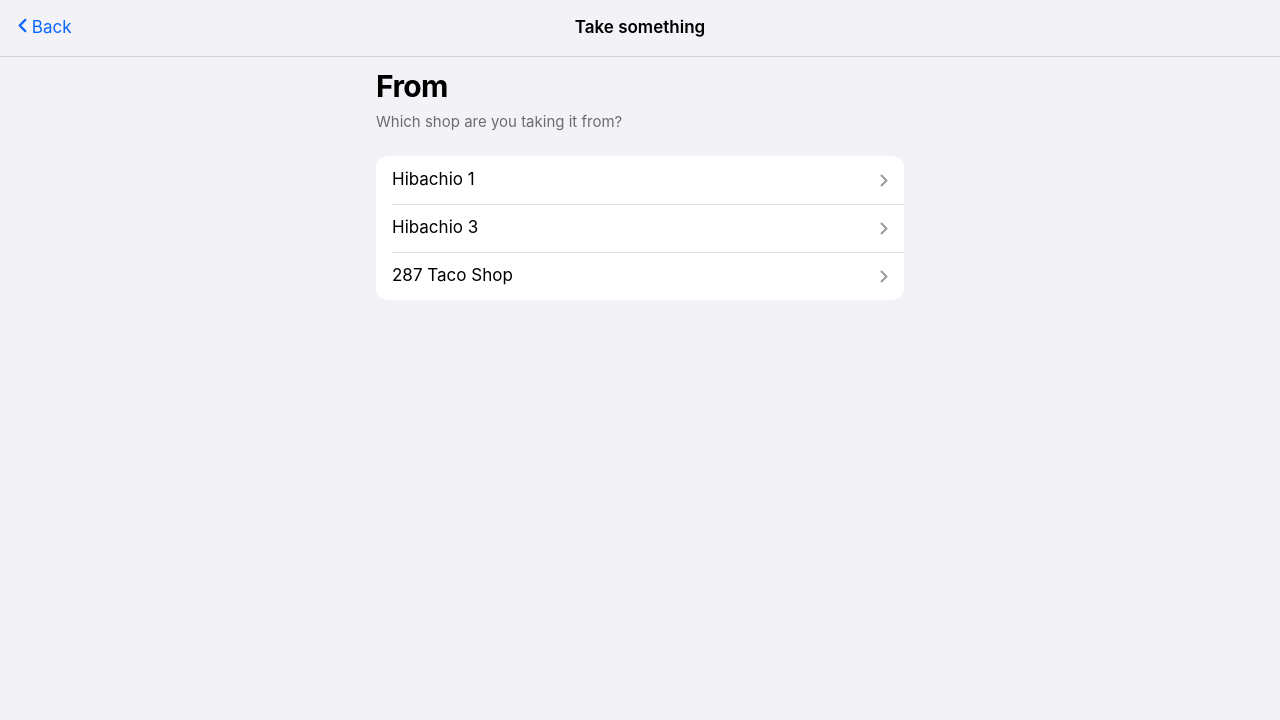
the take flow, end to end › will not go below one
Click the button "287 Taco Shop": [452, 275] box [376,252,904,300]
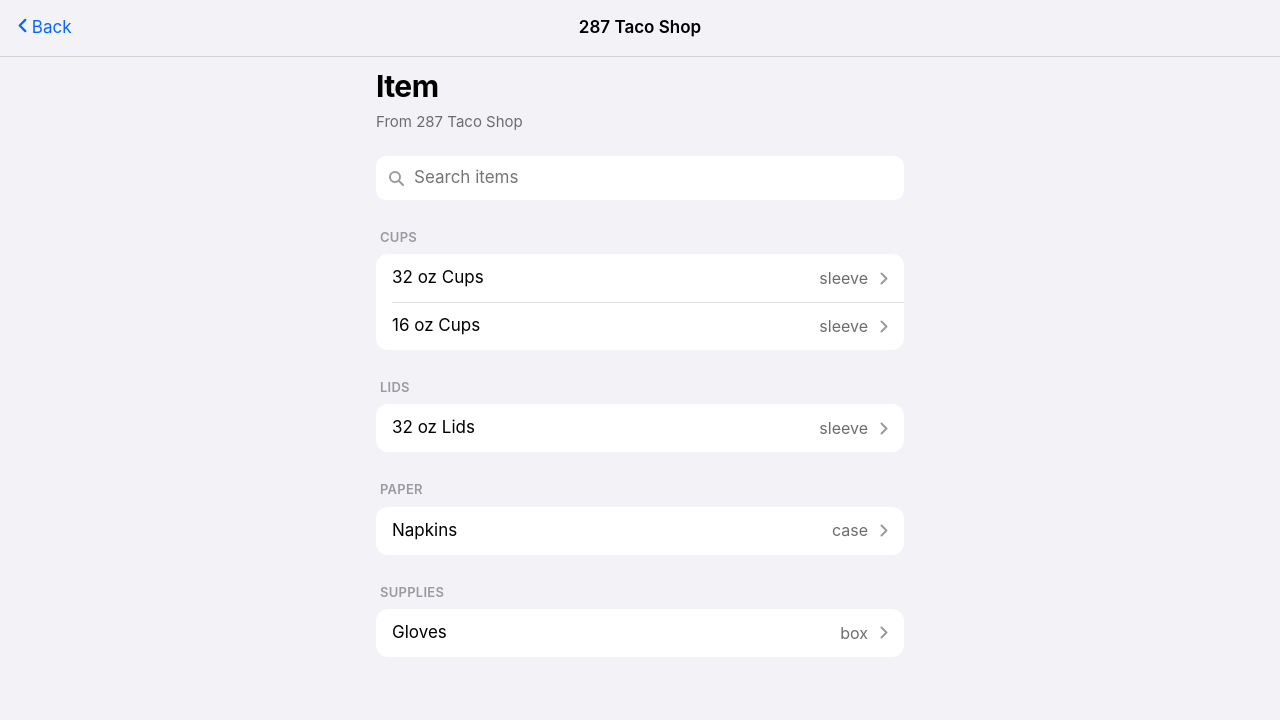
Click the button "Napkins case": [425, 530] box [376,507,904,555]
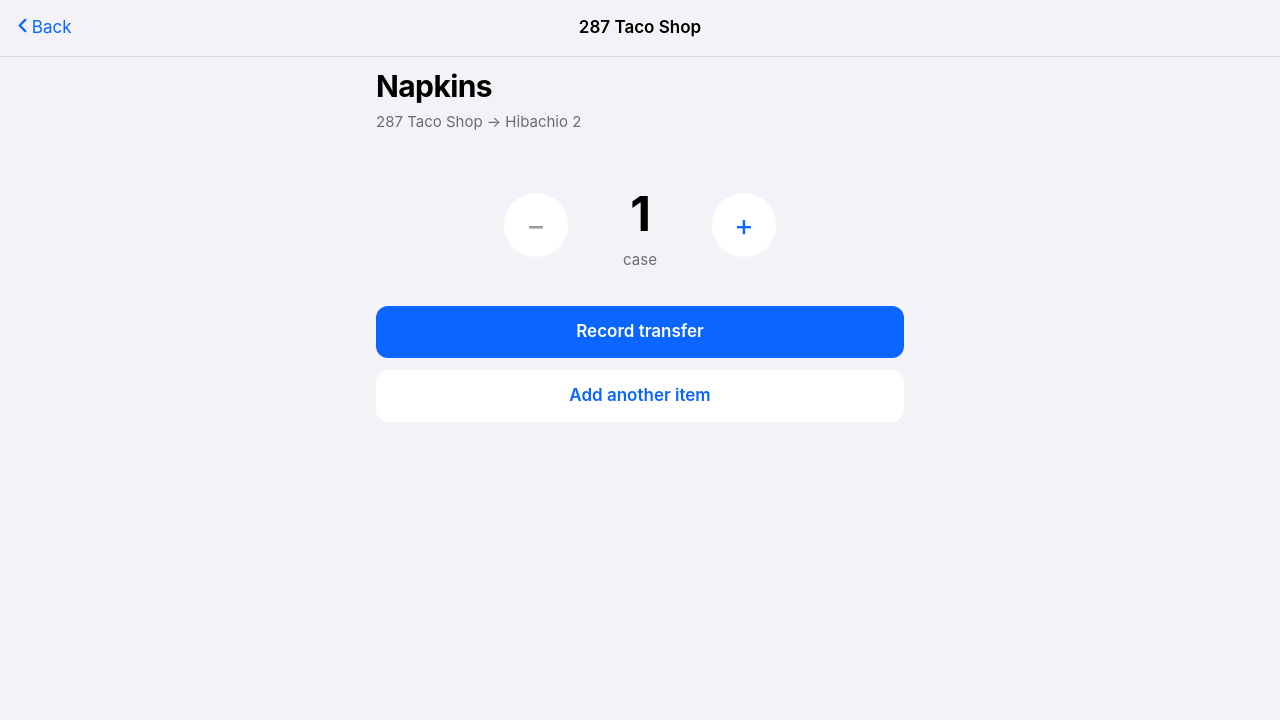
Now the button named "decrease quantity" is disabled, box [504,193,568,257]
